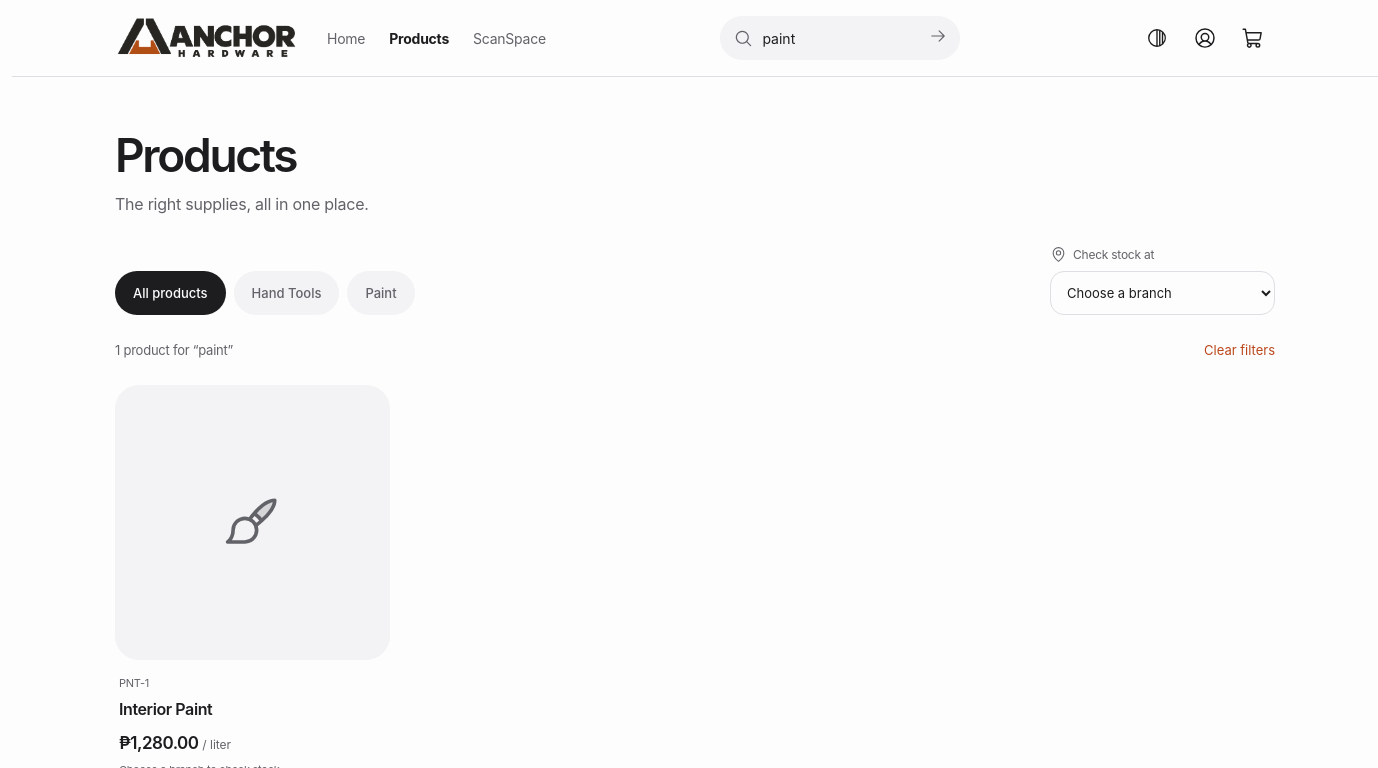
it: live search and clearing a directly linked search keep the URL and input in sync
Expected: the heading "Interior Paint" is shown, [119, 699, 212, 719]
Expected: the search field named "Search products" holds "paint", [762, 16, 907, 60]
Click the button "Clear filters": point(1240, 350) [1204, 328, 1275, 372]
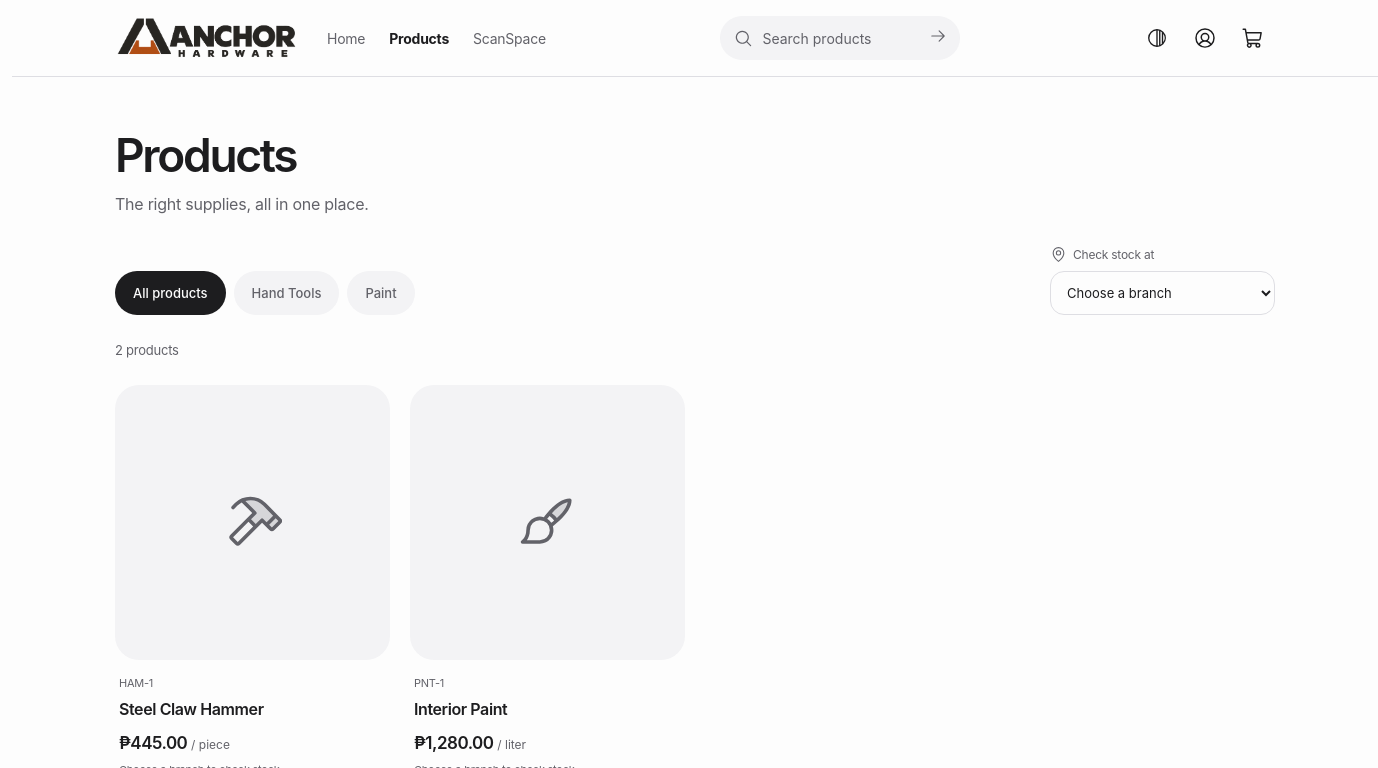
Expected: the search field labelled "Search products" is empty
In the search field labelled "Search products": point(835, 38) [762, 16, 907, 60], type "hammer"
(page scrolled)
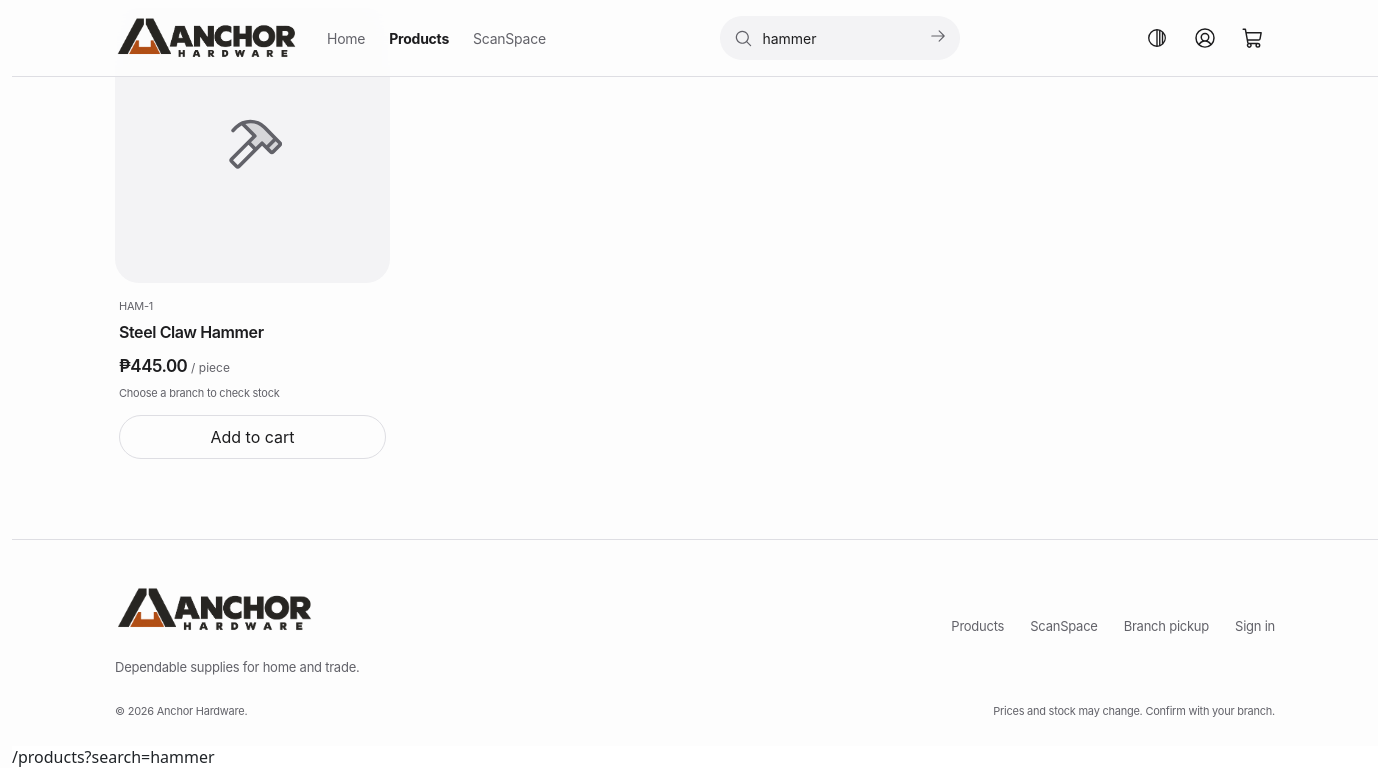
Expected: the heading "Steel Claw Hammer" is shown, [119, 322, 264, 342]
Expected: the link "Interior Paint" is gone
Expected: the text named "Current location" reads "/products?search=hammer", [12, 746, 215, 767]
